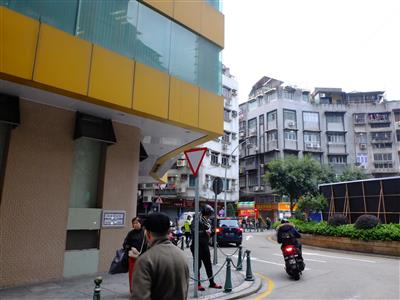pedestrianCrossingR: (154, 193, 164, 205)
yield: (180, 145, 209, 178)
